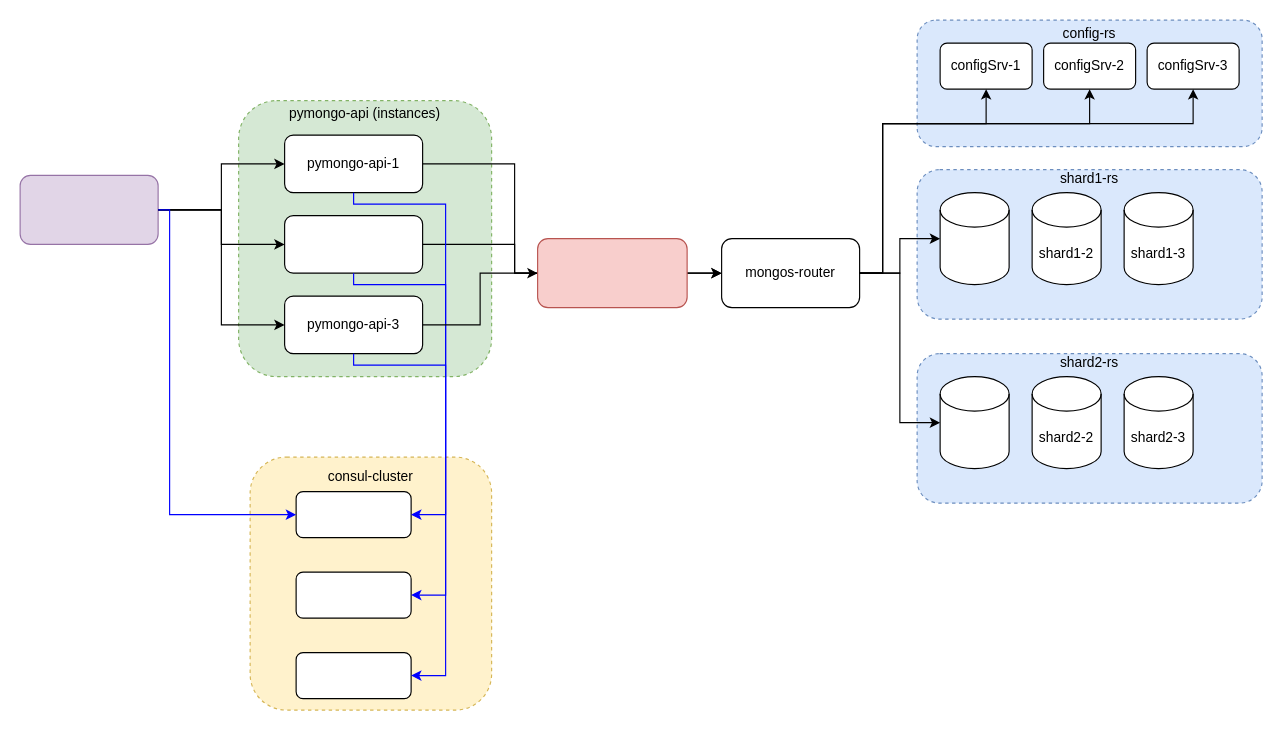
Some shapes in this 1282 by 730 pixel diagram are drawn without their labels. The shapes that lost their labels are listed below. From the top down, each one's centre as x and y in pixels, then its label:
At point (88, 209): "api-gateway".
At point (353, 243): "pymongo-api-2".
At point (974, 238): "shard1-1 (Primary)".
At point (611, 272): "redis-cache".
At point (974, 422): "shard2-1 (Primary)".
At point (353, 514): "consul-1".
At point (353, 594): "consul-2".
At point (353, 675): "consul-3".
